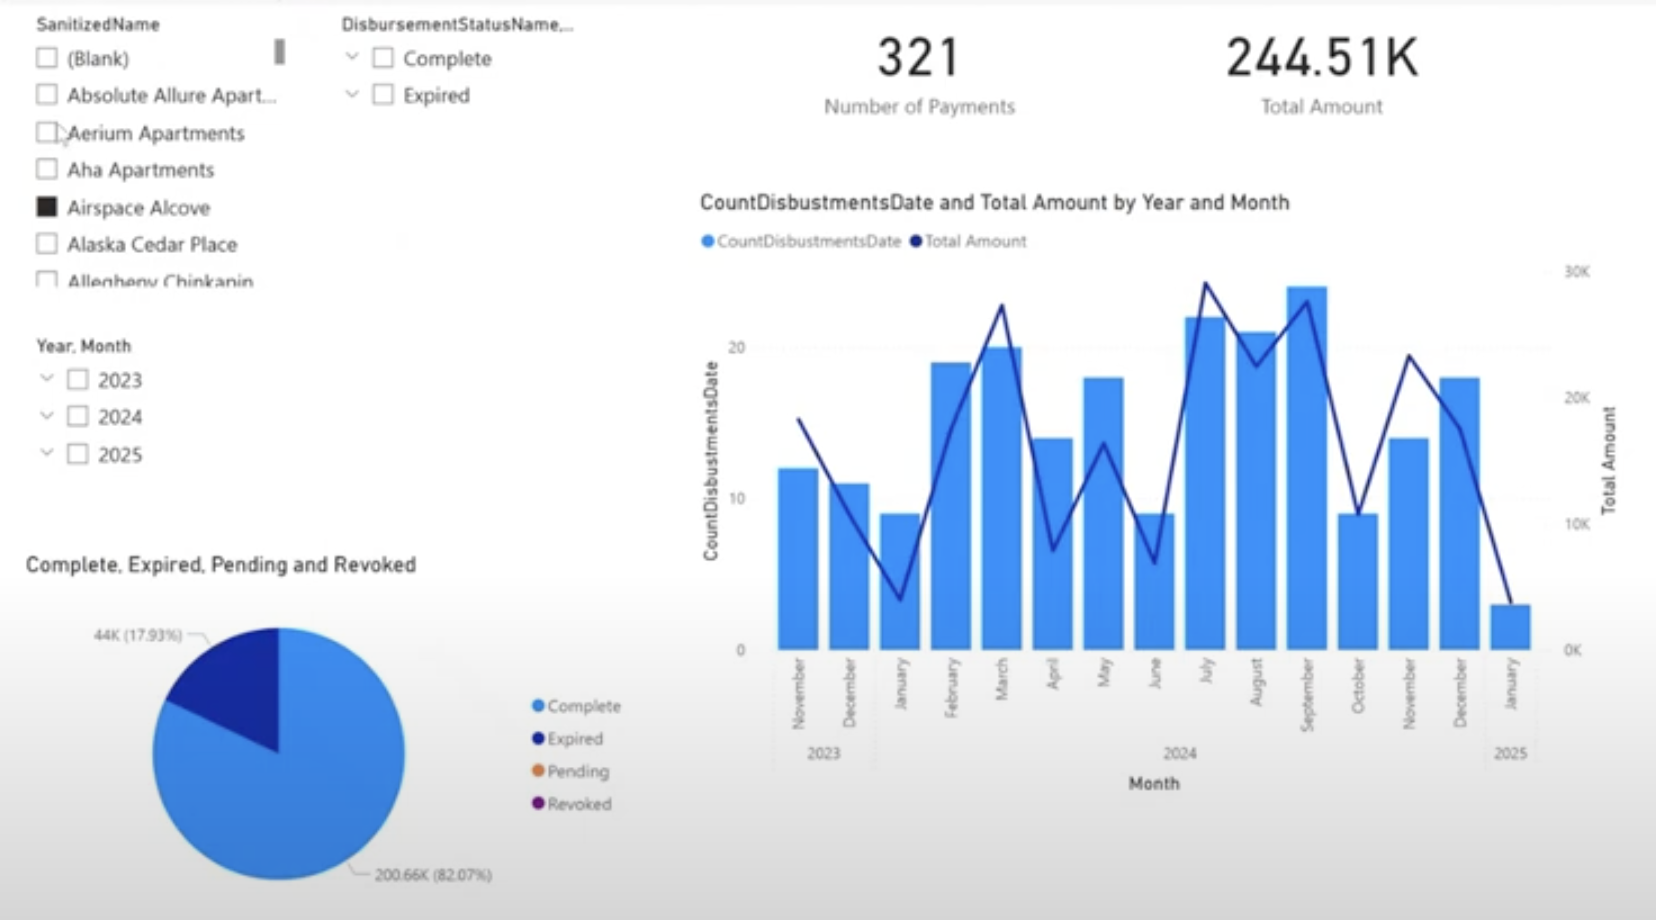

What the dashboard file says about the page in this screenshot:
{"tool":"powerbi","page":{"name":"Disbursement Data","canvas":[1280,720],"ordinal":2},"visuals":[{"type":"lineClusteredColumnComboChart","fields":{"Y":["df_SAN_Disbursements.CountDisbustmentsDate"],"Y2":["df_SAN_Disbursements.Total Amount"],"Category":["Table.Date.Variation.Date Hierarchy.Year","Table.Date.Variation.Date Hierarchy.Month"]},"box":[523.8,143.8,723.8,475],"z":0},{"type":"slicer","fields":{"Values":["Table.Date.Variation.Date Hierarchy.Year","Table.Date.Variation.Date Hierarchy.Month"]},"box":[0,250.2,198.1,143.2],"z":1000},{"type":"slicer","fields":{"Values":["SAN_ApartmentNameRef.SanitizedName"]},"box":[0,0,211.1,224.1],"z":2000},{"type":"card","fields":{"Values":["df_SAN_RecipientPayments.CountofPayments"]},"box":[582.8,0,234.3,92.5],"z":3000},{"type":"pieChart","fields":{"Y":["df_SAN_Disbursements.Complete","df_SAN_Disbursements.Expired","df_SAN_Disbursements.Pending","df_SAN_Disbursements.Revoked"]},"box":[0,425,482.5,295],"z":4000},{"type":"card","fields":{"Values":["df_SAN_Disbursements.Total Amount"]},"box":[895.1,0,234.3,92.5],"z":5000},{"type":"slicer","fields":{"Values":["df_SAN_Disbursements.DisbursementStatusName","df_SAN_RecipientPayments.PaymentStatus"]},"box":[237.2,0,215.5,248.7],"z":6000}]}

Visuals, with their boxes in screenshot pixels (x1, y1, x2, y2), scaled from the page's 1280x720 canvas onto the 1656x920 screenshot:
lineClusteredColumnComboChart - df_SAN_Disbursements.CountDisbustmentsDate x df_SAN_Disbursements.Total Amount: [x1=678, y1=184, x2=1614, y2=791]
slicer - Table.Date.Variation.Date Hierarchy.Year x Table.Date.Variation.Date Hierarchy.Month: [x1=0, y1=320, x2=256, y2=503]
slicer - SAN_ApartmentNameRef.SanitizedName: [x1=0, y1=0, x2=273, y2=286]
card - df_SAN_RecipientPayments.CountofPayments: [x1=754, y1=0, x2=1057, y2=118]
pieChart - df_SAN_Disbursements.Complete x df_SAN_Disbursements.Expired: [x1=0, y1=543, x2=624, y2=919]
card - df_SAN_Disbursements.Total Amount: [x1=1158, y1=0, x2=1461, y2=118]
slicer - df_SAN_Disbursements.DisbursementStatusName x df_SAN_RecipientPayments.PaymentStatus: [x1=307, y1=0, x2=586, y2=318]
